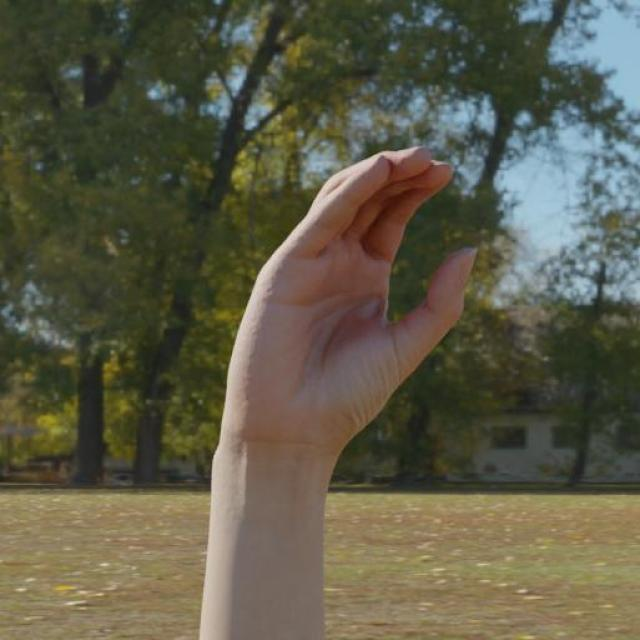C: (214, 146, 476, 460)
